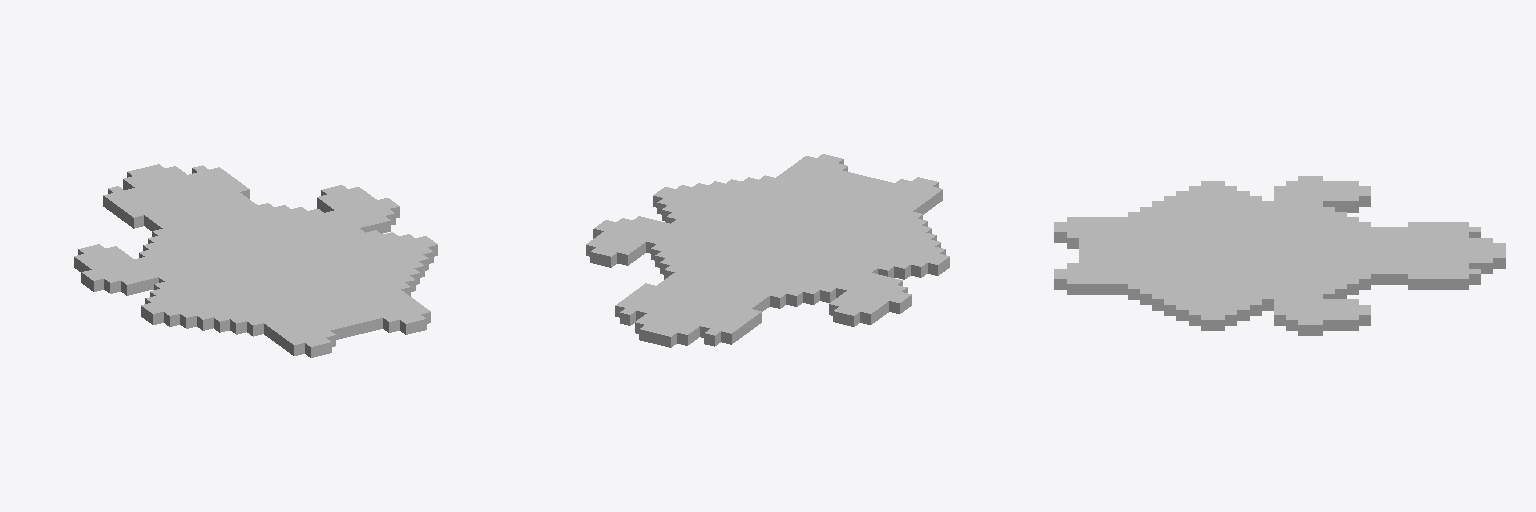
File: playershiphull.obj
3 renders of one model, left to right at view 1: azimuth 30°, elevation 25°; view 2: azimuth 150°, elevation 25°; view 3: azimuth 270°, elevation 25°, orthographic.
Visible parts, largest first — view 1: PlayerShipHull_0, PlayerShipHull_3, PlayerShipHull_4, PlayerShipHull_1, PlayerShipHull_7, PlayerShipHull_2, PlayerShipHull_6, PlayerShipHull_15, PlayerShipHull_10, PlayerShipHull_11, PlayerShipHull_16, PlayerShipHull_19 (+14 smaller); view 2: PlayerShipHull_0, PlayerShipHull_3, PlayerShipHull_4, PlayerShipHull_1, PlayerShipHull_2, PlayerShipHull_7, PlayerShipHull_6, PlayerShipHull_15, PlayerShipHull_10, PlayerShipHull_11, PlayerShipHull_16, PlayerShipHull_19 (+13 smaller); view 3: PlayerShipHull_0, PlayerShipHull_4, PlayerShipHull_6, PlayerShipHull_7, PlayerShipHull_3, PlayerShipHull_2, PlayerShipHull_16, PlayerShipHull_1, PlayerShipHull_11, PlayerShipHull_10, PlayerShipHull_15, PlayerShipHull_20 (+12 smaller).
Boxes of the visible parts, x1=… form: PlayerShipHull_0: x1=127, y1=164, x2=371, y2=338; PlayerShipHull_3: x1=108, y1=186, x2=331, y2=355; PlayerShipHull_4: x1=192, y1=165, x2=415, y2=334; PlayerShipHull_1: x1=123, y1=176, x2=340, y2=339; PlayerShipHull_7: x1=189, y1=172, x2=399, y2=332; PlayerShipHull_2: x1=165, y1=166, x2=382, y2=330; PlayerShipHull_6: x1=125, y1=188, x2=335, y2=346; PlayerShipHull_15: x1=148, y1=236, x2=304, y2=355; PlayerShipHull_10: x1=152, y1=229, x2=320, y2=357; PlayerShipHull_11: x1=258, y1=203, x2=426, y2=331; PlayerShipHull_16: x1=275, y1=205, x2=430, y2=323; PlayerShipHull_19: x1=143, y1=243, x2=263, y2=336; PlayerShipHull_0: x1=639, y1=173, x2=883, y2=347; PlayerShipHull_3: x1=704, y1=177, x2=927, y2=346; PlayerShipHull_4: x1=620, y1=156, x2=843, y2=325; PlayerShipHull_1: x1=677, y1=181, x2=894, y2=345; PlayerShipHull_2: x1=635, y1=170, x2=851, y2=333; PlayerShipHull_7: x1=636, y1=163, x2=847, y2=320; PlayerShipHull_6: x1=700, y1=179, x2=911, y2=337; PlayerShipHull_15: x1=786, y1=187, x2=942, y2=306; PlayerShipHull_10: x1=770, y1=180, x2=938, y2=308; PlayerShipHull_11: x1=664, y1=154, x2=832, y2=279; PlayerShipHull_16: x1=660, y1=156, x2=815, y2=274; PlayerShipHull_19: x1=803, y1=212, x2=922, y2=304; PlayerShipHull_0: x1=1079, y1=243, x2=1505, y2=268; PlayerShipHull_4: x1=1054, y1=269, x2=1480, y2=284; PlayerShipHull_6: x1=1067, y1=232, x2=1468, y2=248; PlayerShipHull_7: x1=1067, y1=263, x2=1468, y2=268; PlayerShipHull_3: x1=1054, y1=227, x2=1480, y2=242; PlayerShipHull_2: x1=1079, y1=258, x2=1492, y2=273; PlayerShipHull_16: x1=1067, y1=279, x2=1358, y2=294; PlayerShipHull_1: x1=1079, y1=238, x2=1492, y2=242; PlayerShipHull_11: x1=1054, y1=274, x2=1370, y2=289; PlayerShipHull_10: x1=1054, y1=222, x2=1370, y2=226; PlayerShipHull_15: x1=1067, y1=217, x2=1358, y2=221; PlayerShipHull_20: x1=1128, y1=284, x2=1346, y2=299.
Size of the model in its own units: 1 by 0.0345 by 1.28.